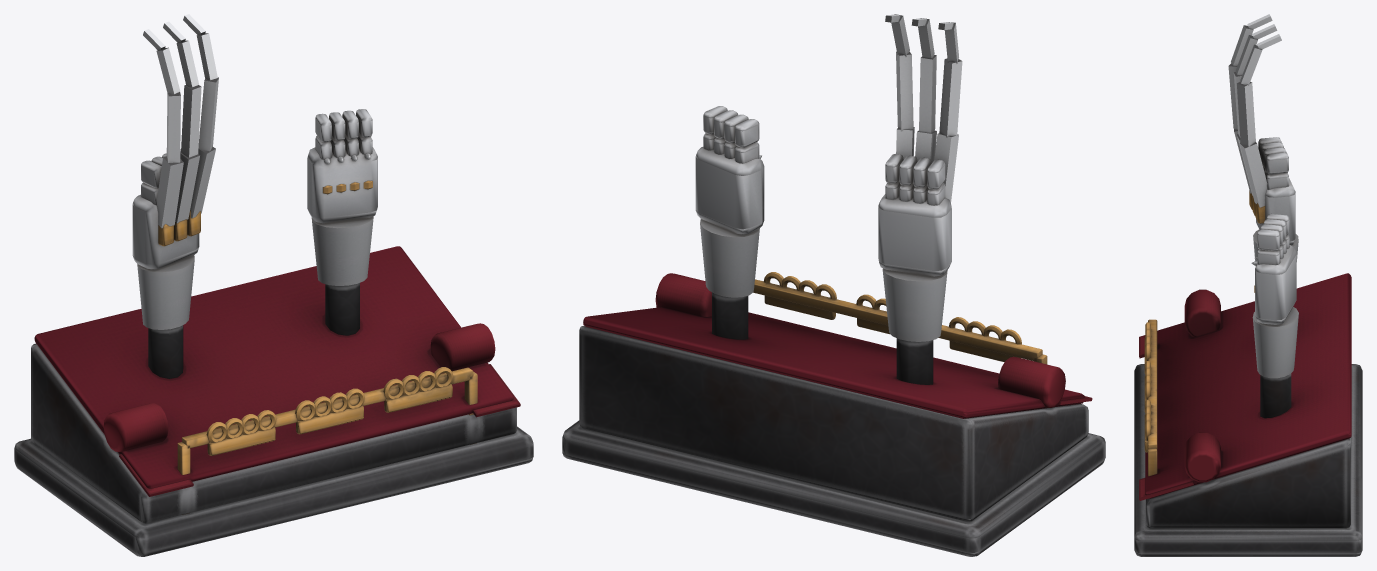
The model's file is ClawGauntletDisplay.fbx.
3 views of the same model, side by side, from view 1: azimuth 30°, elevation 25°; view 2: azimuth 150°, elevation 25°; view 3: azimuth 270°, elevation 25° (orthographic). The views are drawn at different scales.
Visible parts, largest first — view 1: ClawGauntletDisplay; view 2: ClawGauntletDisplay; view 3: ClawGauntletDisplay.
Part boxes in pixels (box(x1,y1,x2,y2)): ClawGauntletDisplay: box(14, 14, 533, 556); ClawGauntletDisplay: box(562, 14, 1105, 556); ClawGauntletDisplay: box(1134, 14, 1362, 556).
Size of the model in its own units: 180 by 197 by 100.
